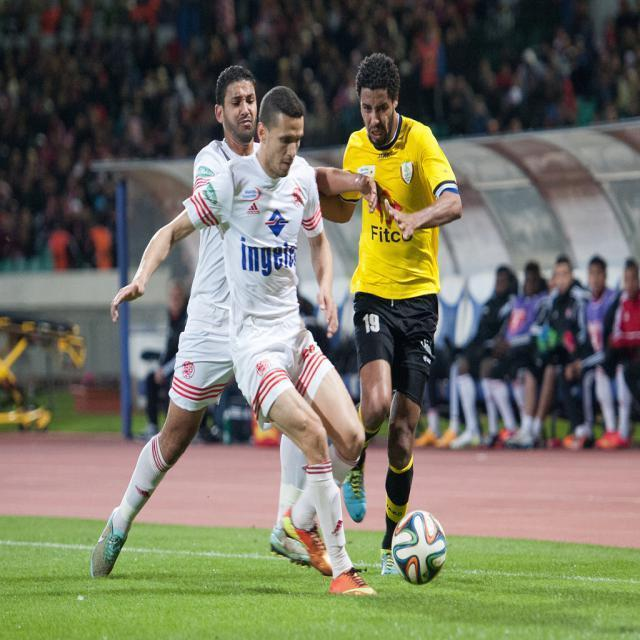ball: (390, 510, 448, 586)
